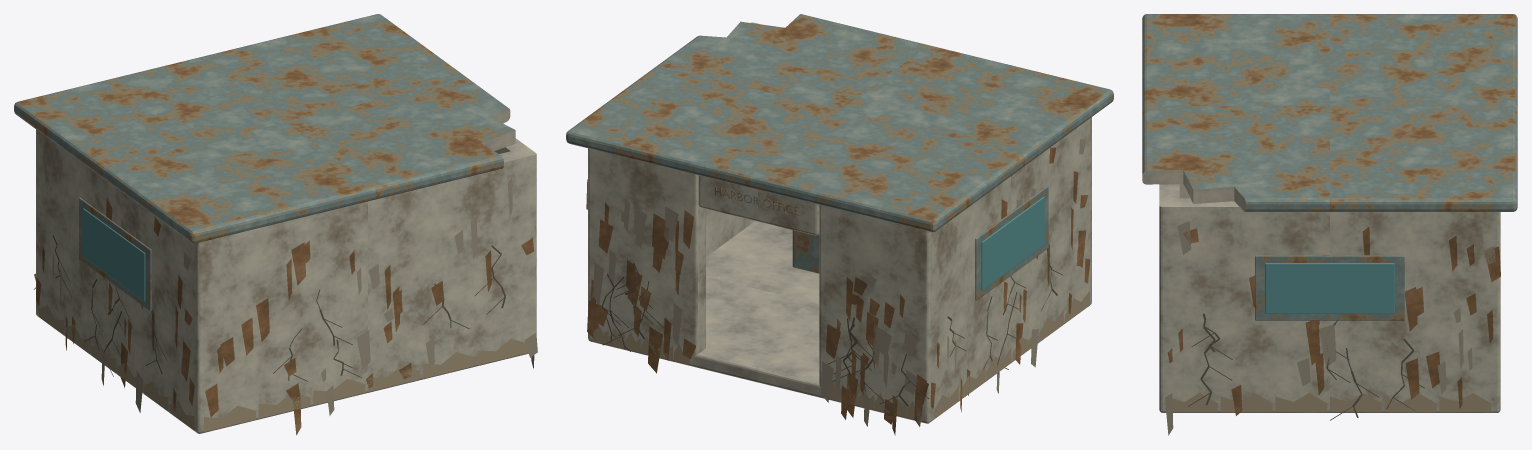
The model's file is Harbor_Office.glb.
3 views of the same model, side by side, from view 1: azimuth 30°, elevation 25°; view 2: azimuth 150°, elevation 25°; view 3: azimuth 270°, elevation 25° (orthographic). The views are drawn at different scales.
Visible parts, largest first — view 1: Harbor_Office; view 2: Harbor_Office; view 3: Harbor_Office.
Boxes of the visible parts, <box> form: Harbor_Office: <box>14,14,537,435</box>; Harbor_Office: <box>566,14,1113,435</box>; Harbor_Office: <box>1142,14,1517,435</box>.
Size of the model in its own units: 6.5 by 3.99 by 5.5.
8 materials, 4 textured.
